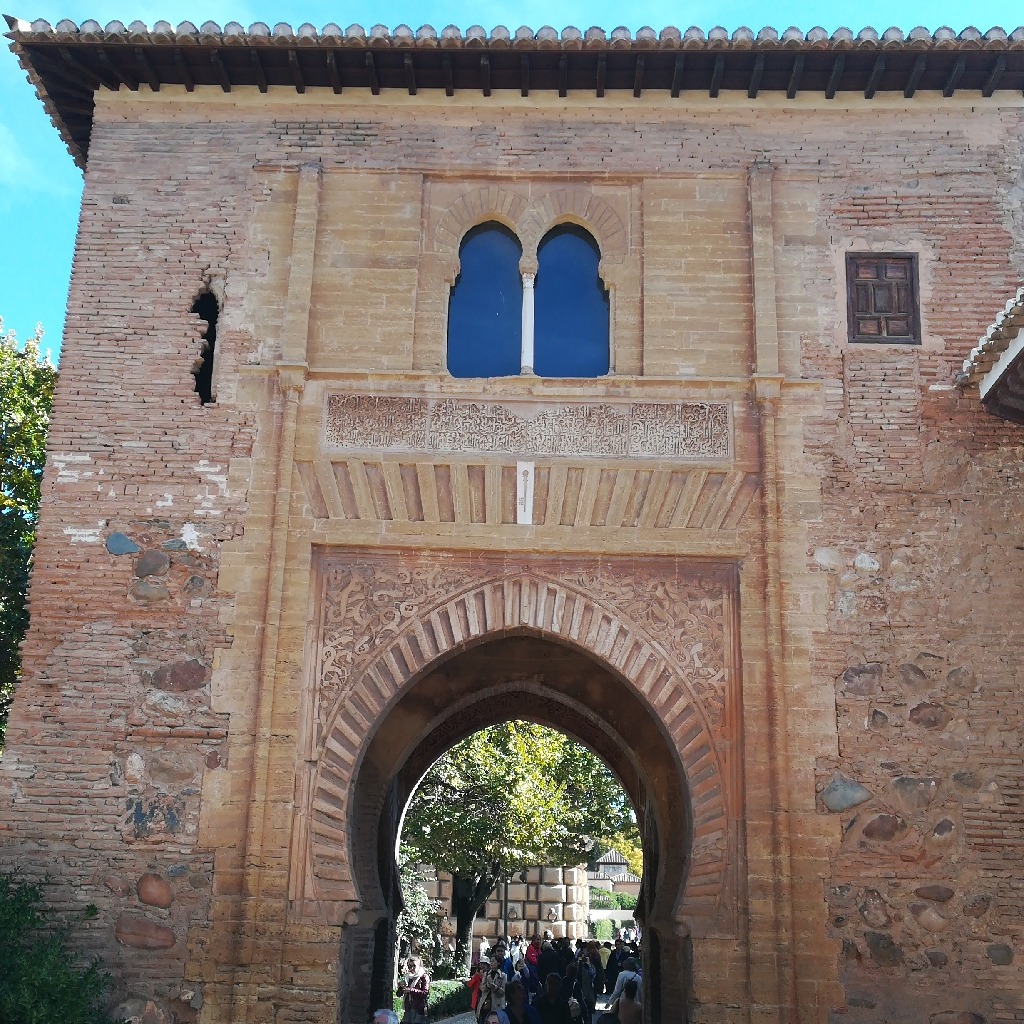arco-herradura: (322, 609, 716, 955), (447, 207, 530, 284), (529, 207, 608, 284)
dintel-adovelado: (294, 455, 766, 545)
